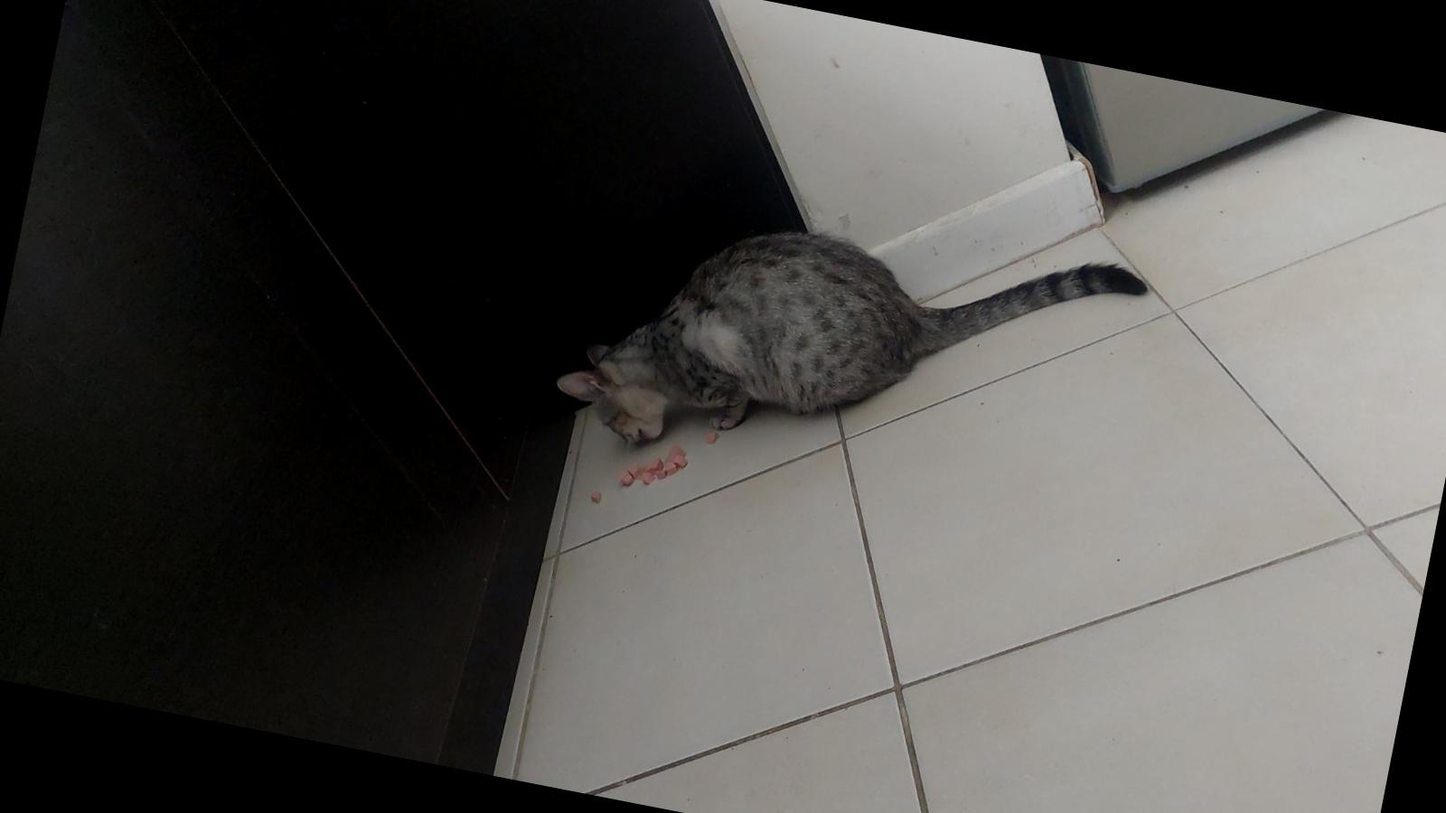macka: (545, 165, 1155, 544)
